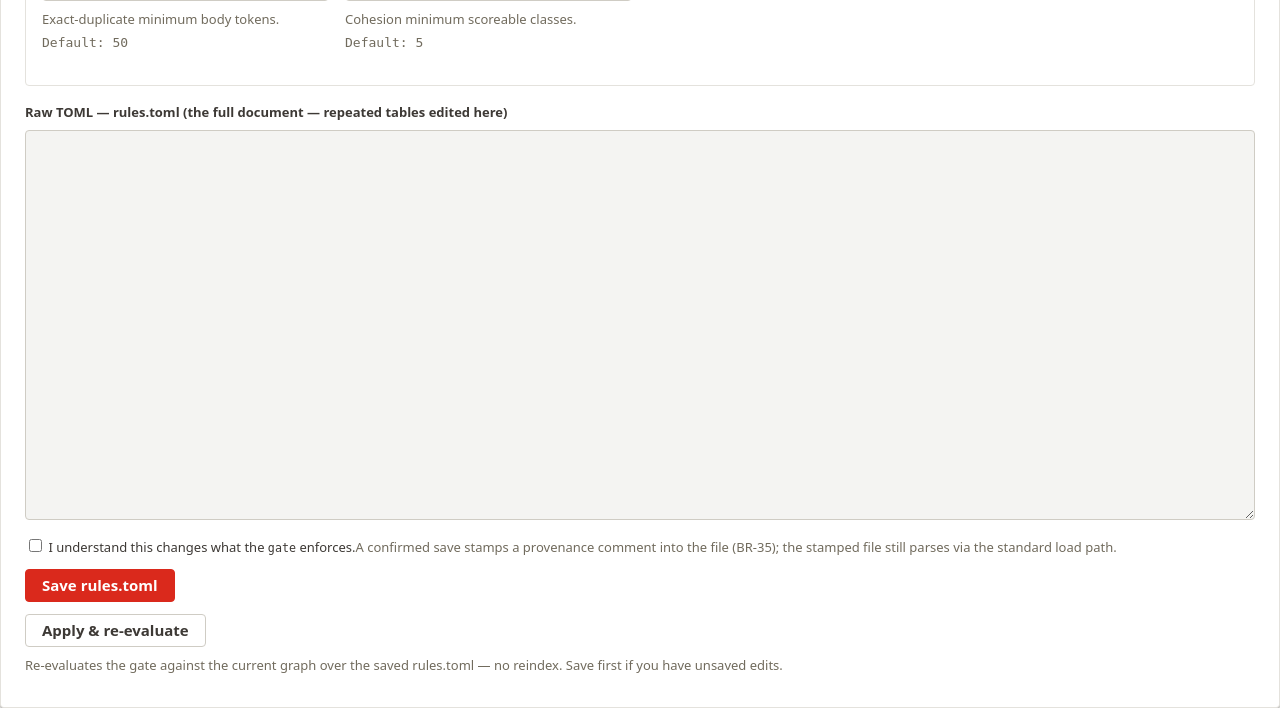
it: ConfigView rules.toml confirm gate (BR-35) › does not POST until the change is confirmed, then writes
The image size is (1280, 708).
(page scrolled)
Note: Saving rules.toml with no confirmation is blocked client-side — no POST.
Step 1. Click the button "Save rules.toml" → click(100, 586), box left=25, top=569, right=175, bottom=602
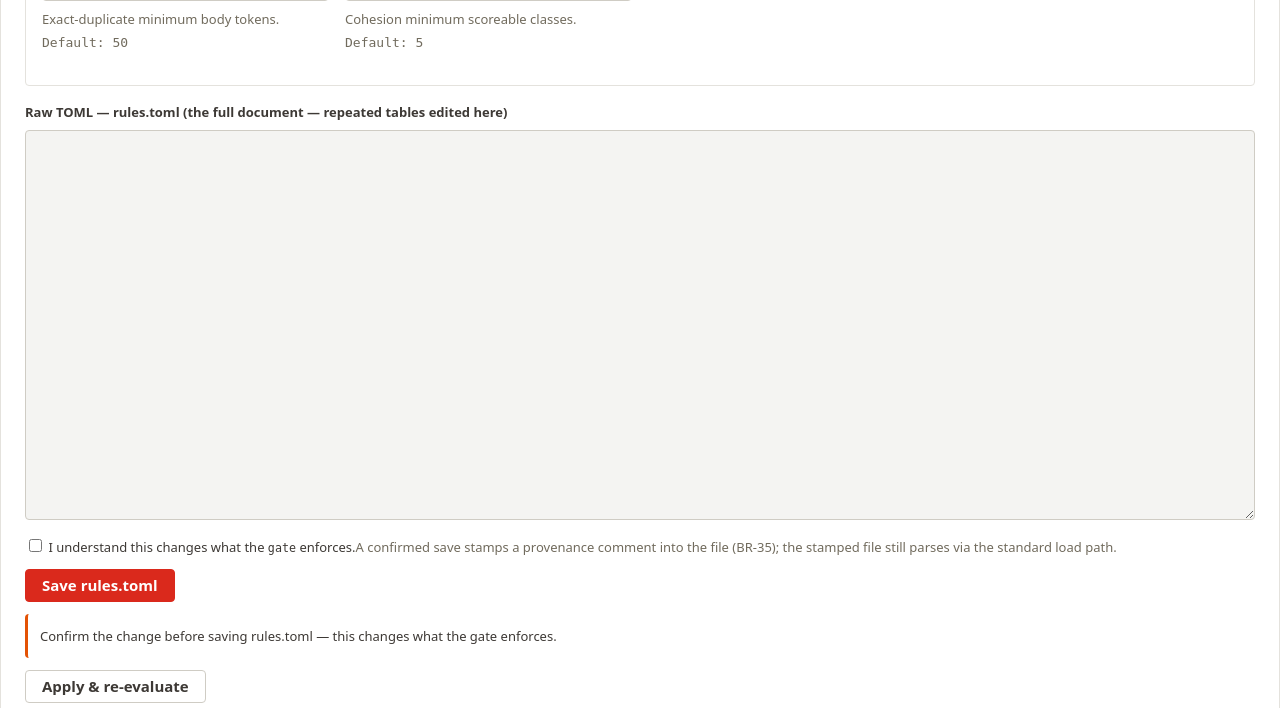
Check: the text "Confirm the change before saving rules.toml" is shown, box left=40, top=627, right=557, bottom=645
Note: Confirm, then save: the POST goes through and the provenance stamp is noted.
Step 2. Click the checkbox → click(36, 546), box left=29, top=539, right=42, bottom=552
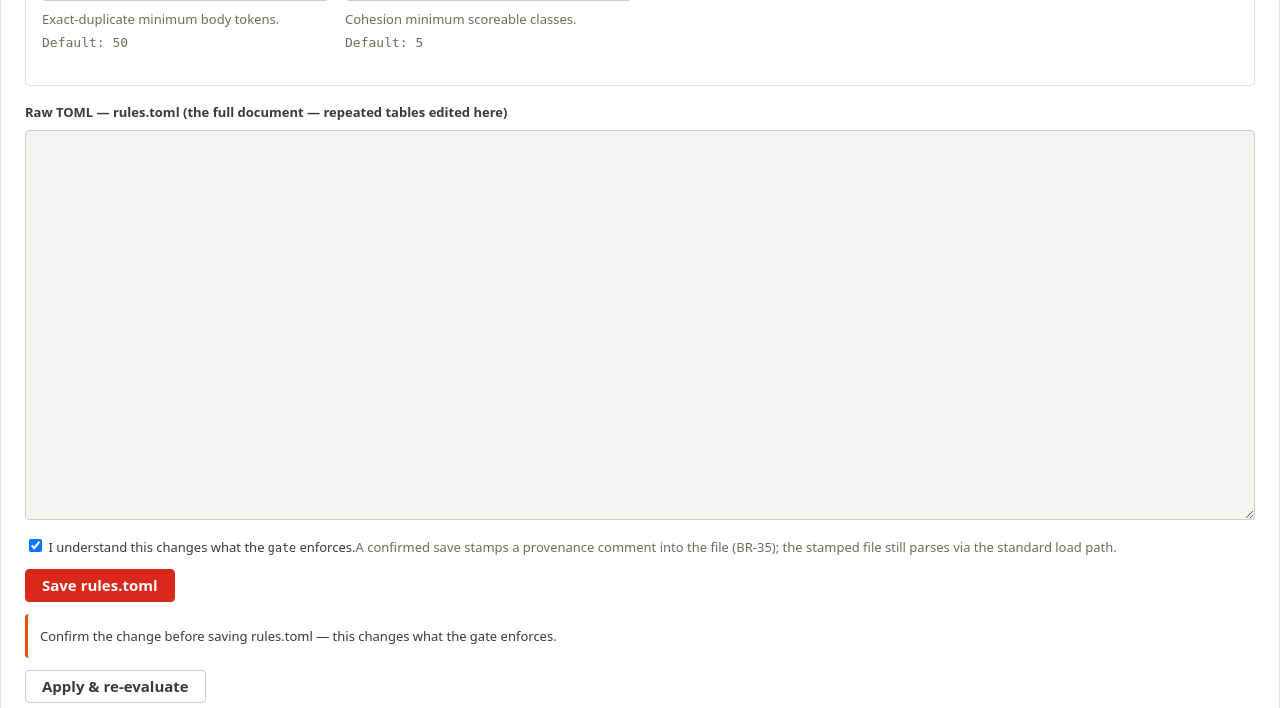
Step 3. Click the button "Save rules.toml" → click(100, 586), box left=25, top=569, right=175, bottom=602
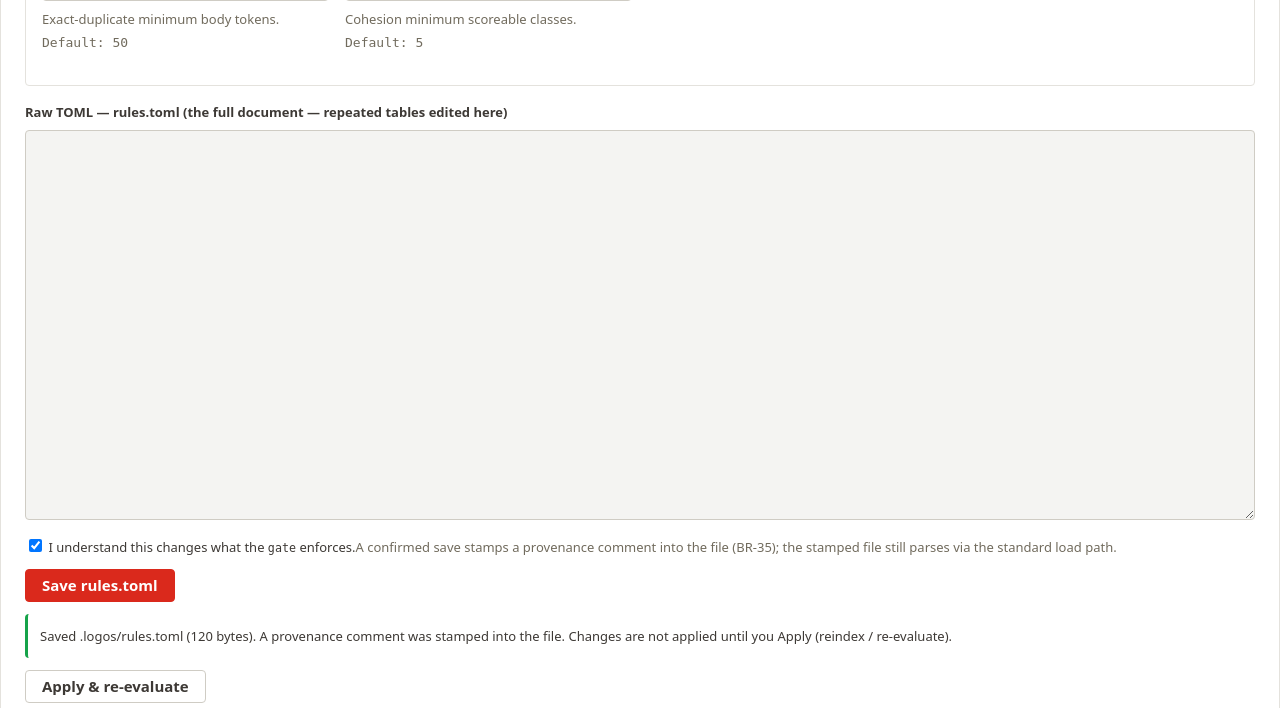
Check: the text "A provenance comment was stamped into the file." is shown, box left=40, top=627, right=952, bottom=645
